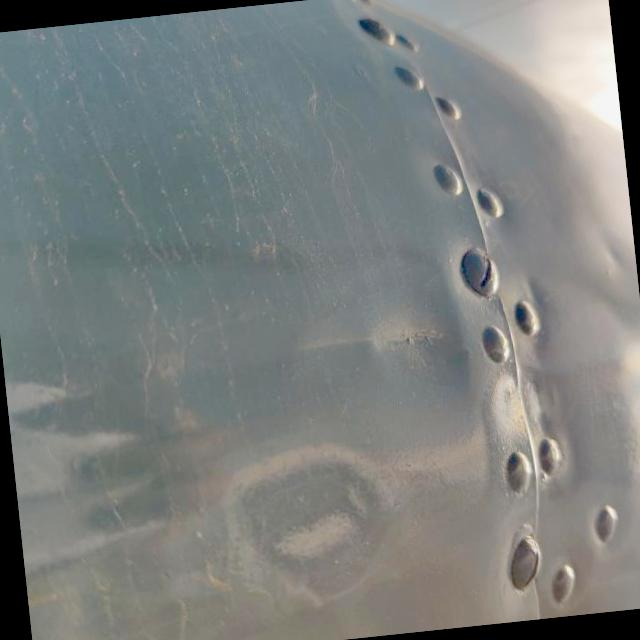dent: (188, 408, 432, 632), (344, 283, 471, 391)
